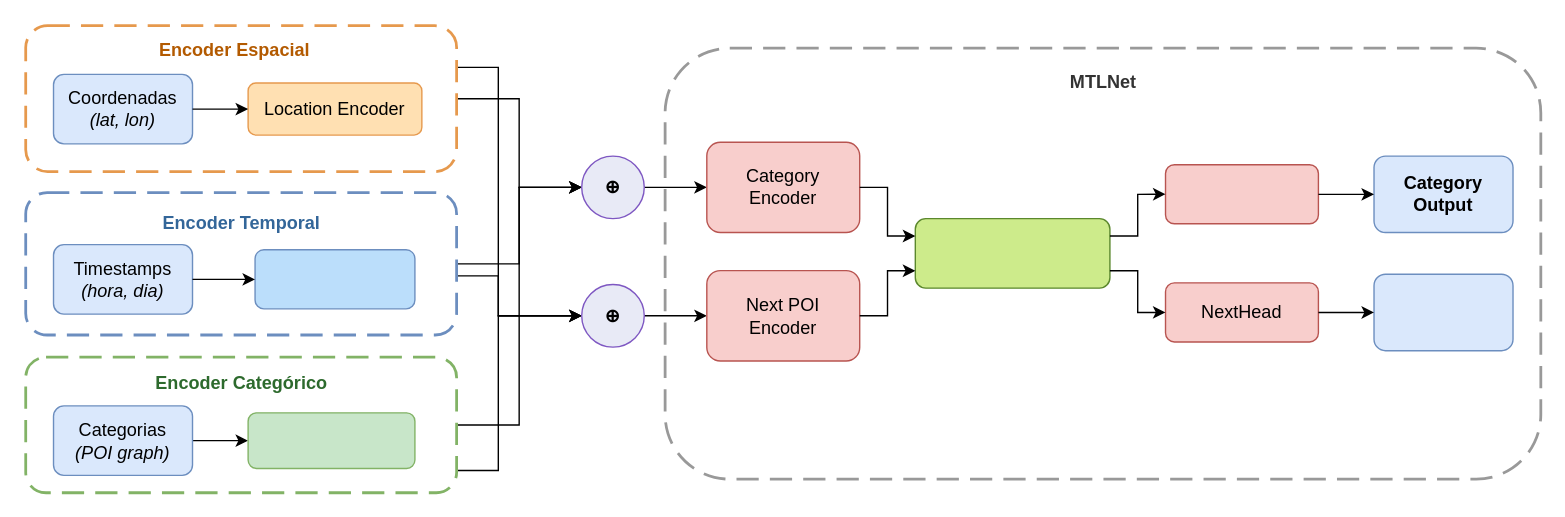
Some shapes in this 1565 by 517 pixel diagram are drawn without their labels. Here are the shapes that lost their labels. From the top down, the centre of each, then its label:
At (1241,193): "CategoryHead".
At (1012,252): "Shared Layers Module".
At (334,278): "Time2Vec".
At (1443,312): "Next POI Output".
At (331,439): "PoiEncoder + HGI".
